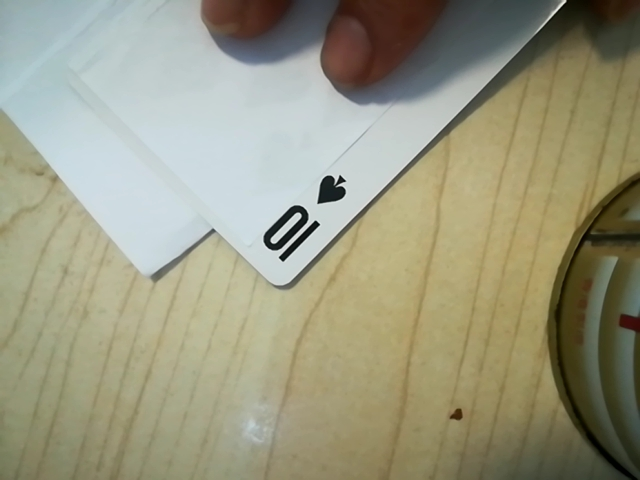ht 10: (248, 159, 364, 277)
